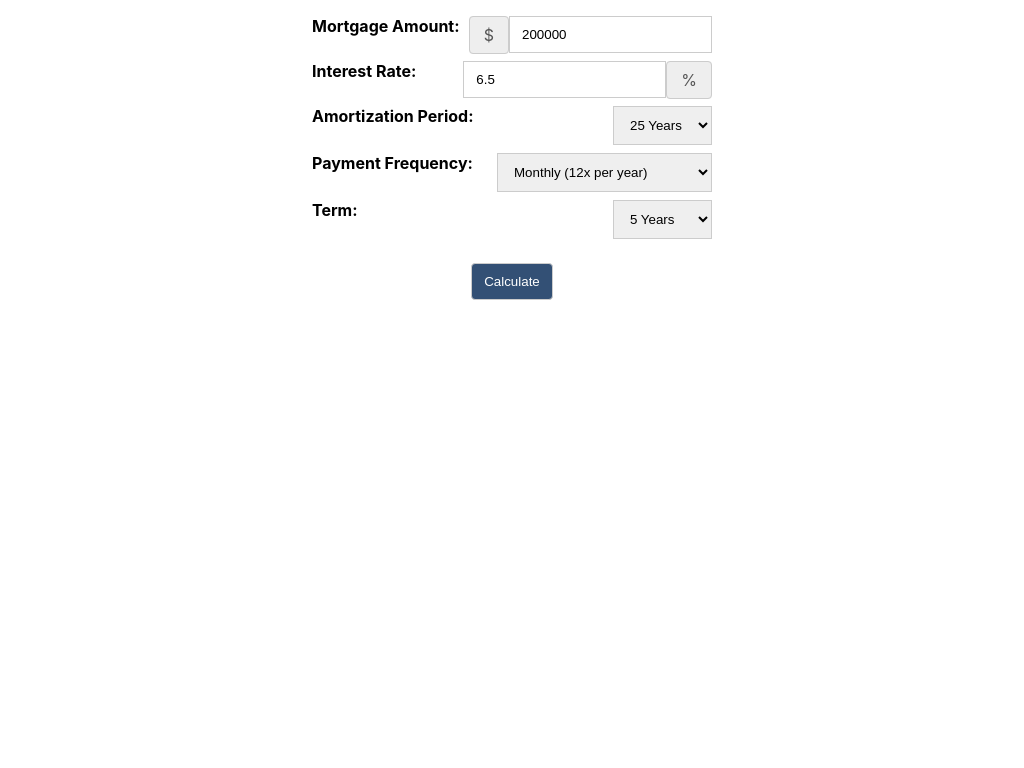
Test case: <PaymentPlan /> component to ensure it can be interacted with › should render the summary
Click the button showing "Calculate" at (512, 282), box [471,263,553,300]
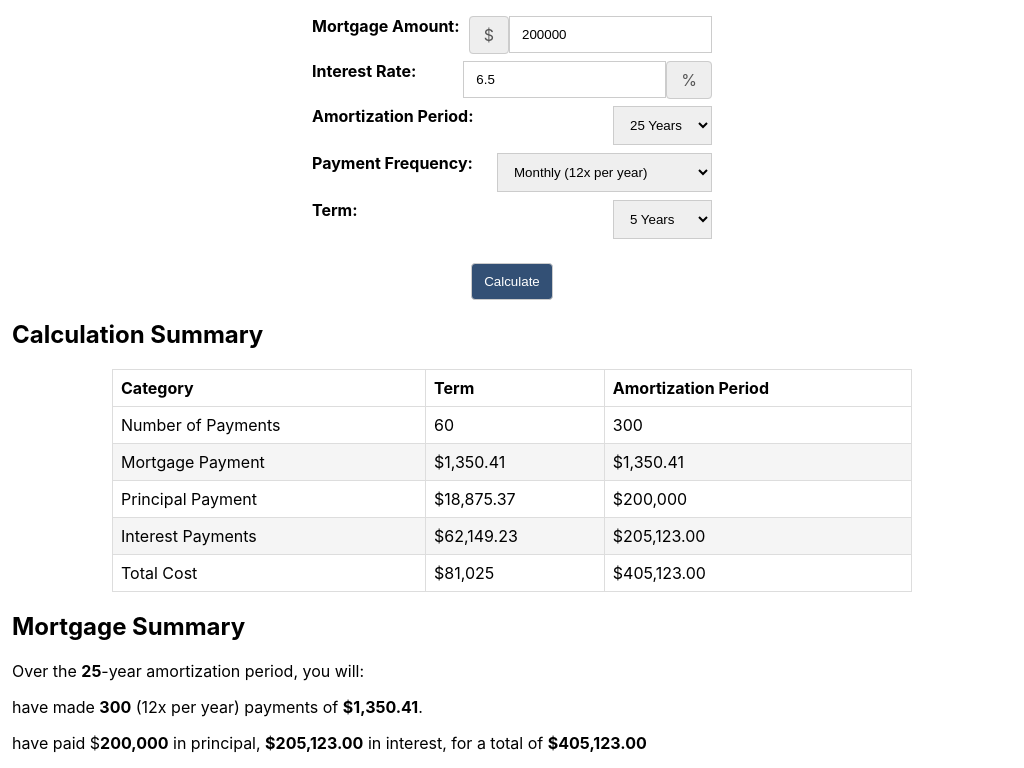
expect the heading "Calculation Summary" is shown: met, box [12,320,263,349]
expect the heading "Mortgage Summary" is shown: met, box [12,612,245,641]
